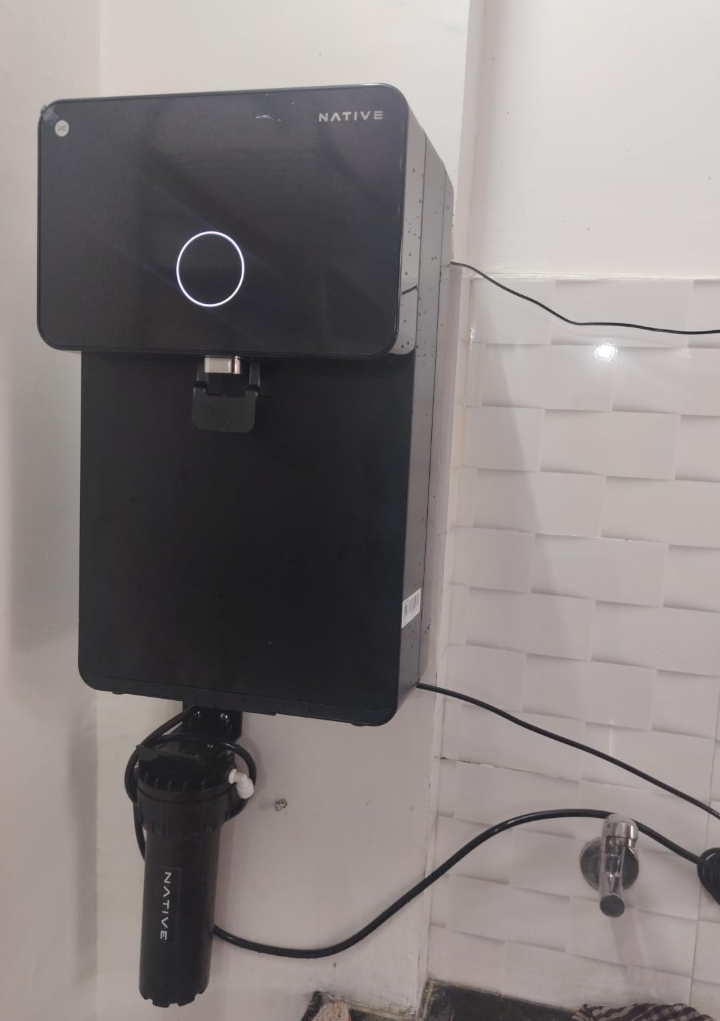water purifier: (17, 64, 467, 739)
